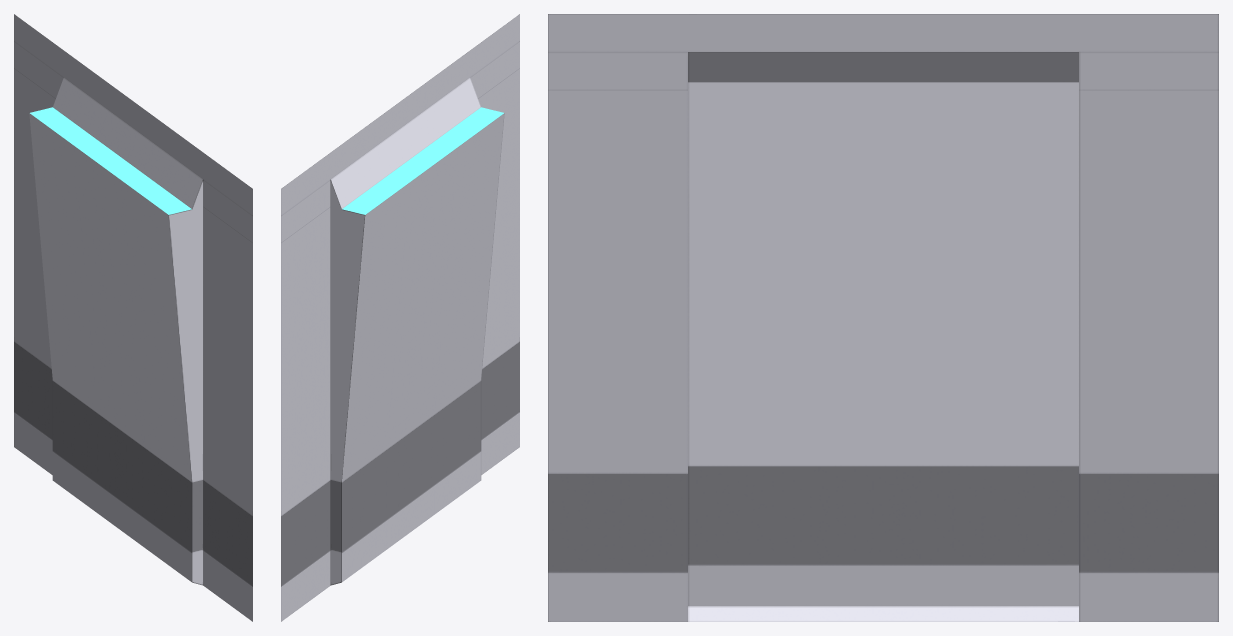
Rendered from Wall_Simple_01.FBX.
3 renders of one model, left to right at view 1: azimuth 30°, elevation 25°; view 2: azimuth 150°, elevation 25°; view 3: azimuth 270°, elevation 25°, orthographic. The views are drawn at different scales.
Parts seen in each view (by area): view 1: Wall_Simple_01; view 2: Wall_Simple_01; view 3: Wall_Simple_01.
Part boxes in pixels (left/top/right/bottom): Wall_Simple_01: left=14, top=14, right=252, bottom=621; Wall_Simple_01: left=281, top=14, right=519, bottom=621; Wall_Simple_01: left=548, top=14, right=1218, bottom=621.
Size of the model in its own units: 0.25 by 3 by 3.
Materials: 2 (1 with a texture image).
